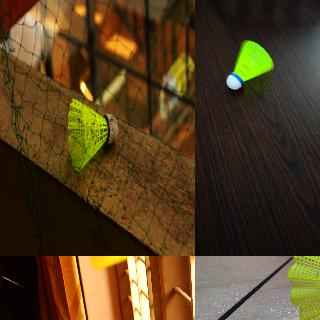shuttlecock: (68, 98, 117, 171), (225, 40, 271, 90), (285, 256, 319, 319), (89, 256, 150, 270)
